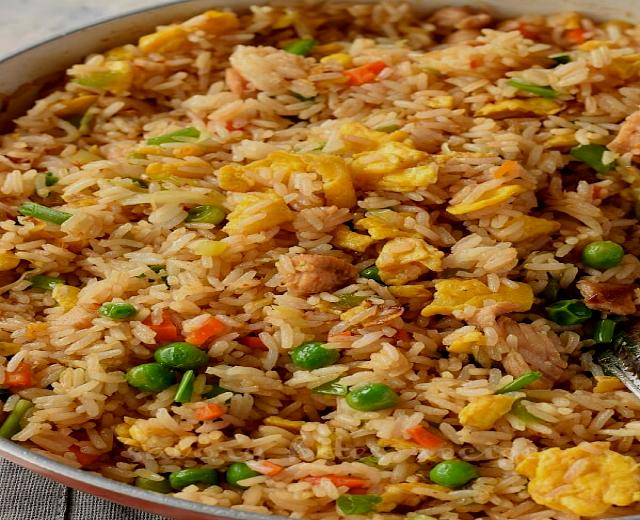fried rice: (4, 5, 627, 515), (0, 2, 623, 93), (124, 342, 215, 400), (143, 461, 268, 498)
